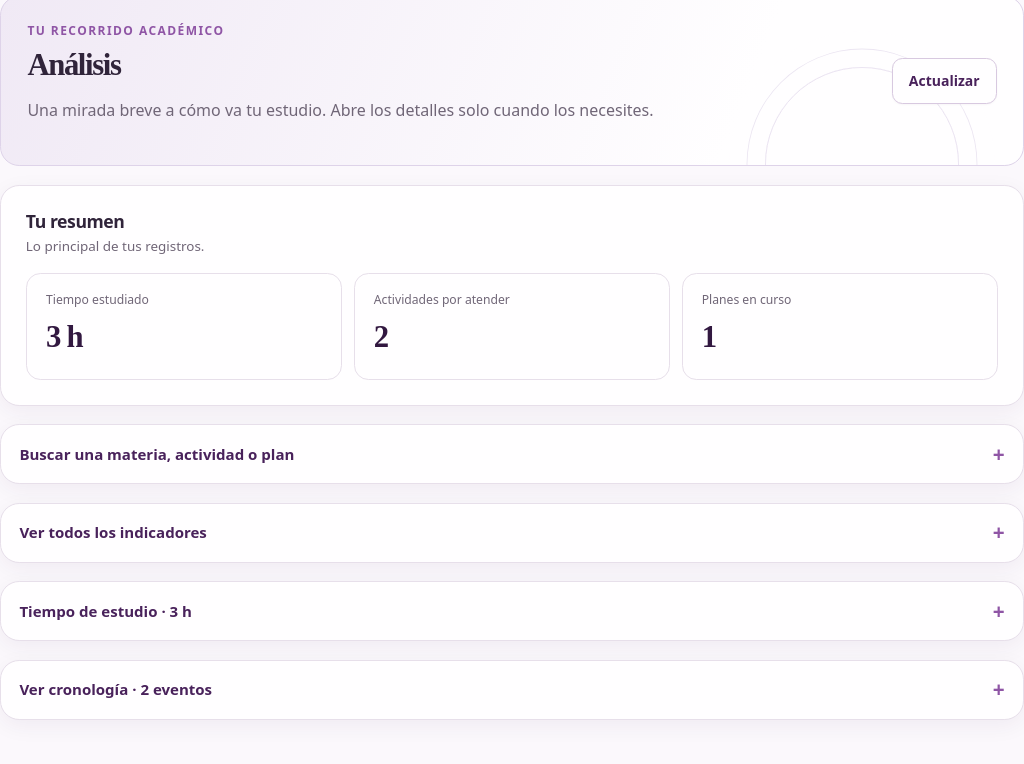
Scenario: AnalyticsPage › labels cancelled timer duration separately from studied time
Click the heading "Tiempo de estudio · 3 h" at (106, 611), box [19,601,192,621]
(page scrolled)
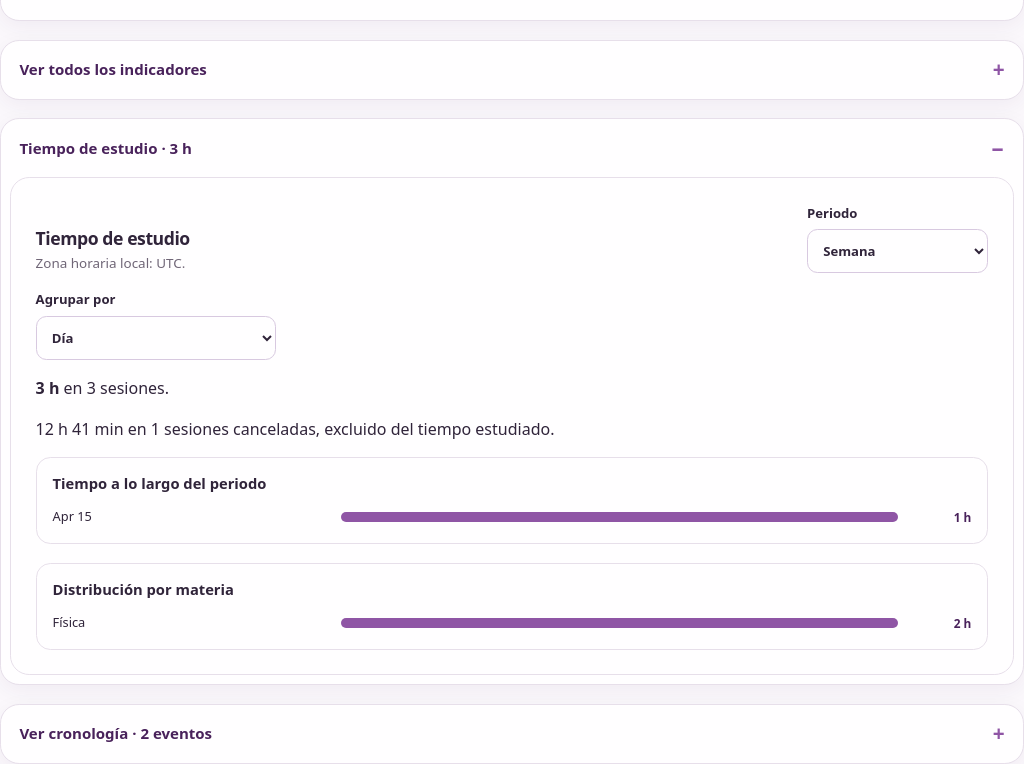
Result: the text "12 h 41 min" is shown at [36,418,124,440]
Result: the text "excluido del tiempo estudiado" is shown at [160,418,554,440]
